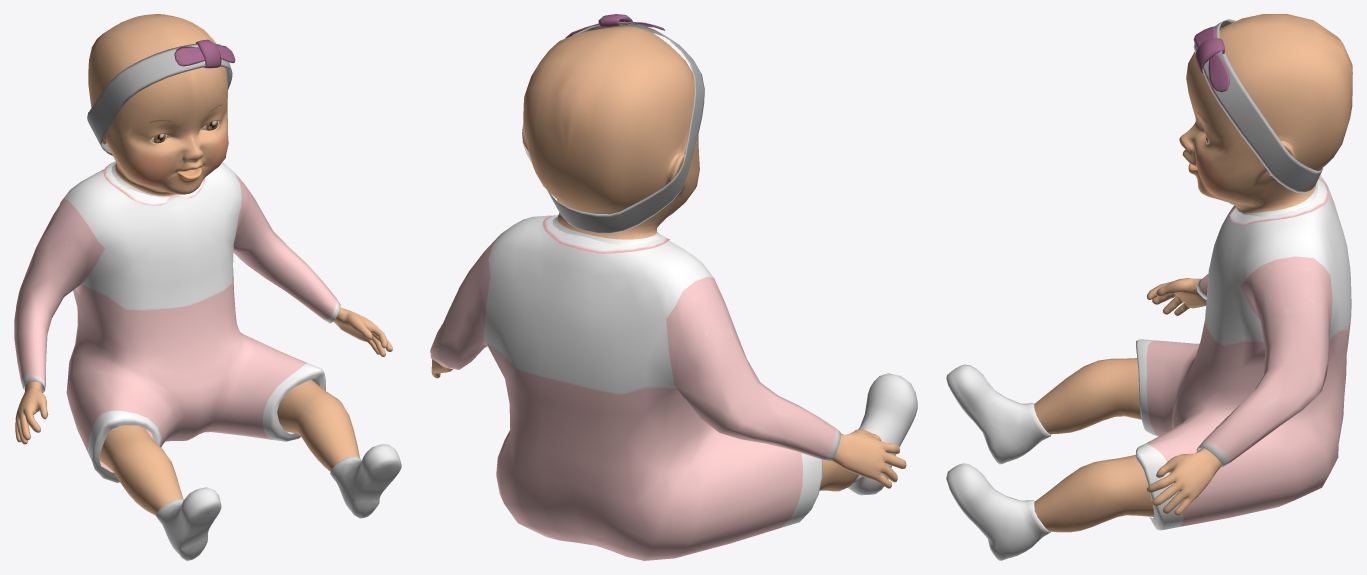
The model's file is doll.obj.
The picture shows the model from 3 angles, left to right: view 1: azimuth 30°, elevation 25°; view 2: azimuth 150°, elevation 25°; view 3: azimuth 270°, elevation 25°; orthographic projection. The views are drawn at different scales.
Visible parts, largest first — view 1: Plane, Plane.001; view 2: Plane, Plane.001; view 3: Plane, Plane.001.
Boxes of the visible parts, x1=… form: Plane: x1=14, y1=14, x2=401, y2=560; Plane.001: x1=87, y1=39, x2=235, y2=155; Plane: x1=430, y1=26, x2=917, y2=560; Plane.001: x1=522, y1=14, x2=704, y2=233; Plane: x1=946, y1=14, x2=1352, y2=560; Plane.001: x1=1193, y1=19, x2=1323, y2=193.
Size of the model in its own units: 14.39 by 16.01 by 12.08.
Materials: 3 (1 with a texture image).
